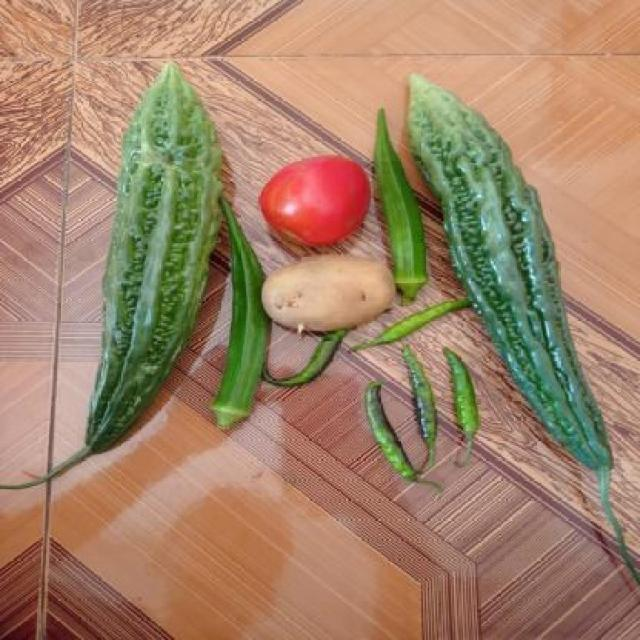Bitter melon: (424, 98, 610, 464), (74, 63, 237, 454)
Green Chili: (444, 352, 480, 470), (400, 356, 443, 446)
Lady finger: (212, 256, 268, 427)
Potato: (263, 254, 394, 336)
Tomato: (260, 154, 371, 248)
